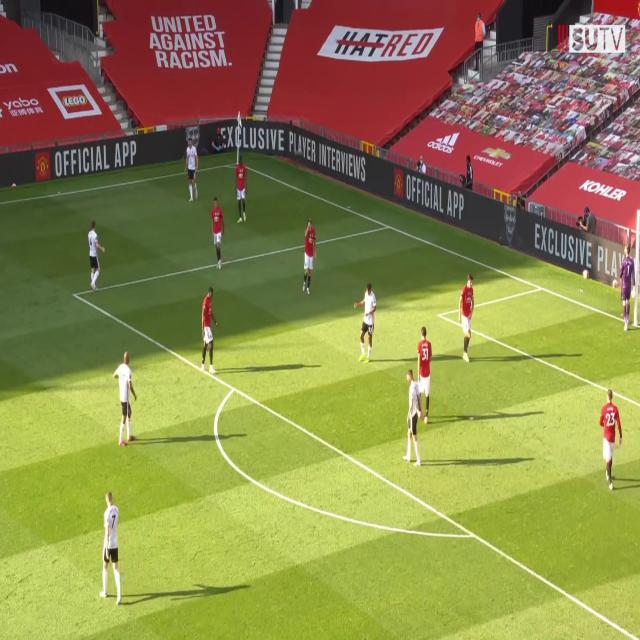Ball: (581, 261, 591, 284)
GoalKeeper: (614, 238, 638, 338)
TEAM 1: (596, 387, 624, 498), (415, 319, 433, 429), (458, 272, 478, 368), (199, 287, 219, 374), (207, 195, 226, 272), (300, 217, 318, 296), (232, 158, 250, 227)
TEAM 2: (97, 484, 125, 610), (111, 345, 138, 447), (353, 273, 377, 367), (403, 365, 424, 472), (86, 215, 103, 297), (182, 136, 202, 204)
